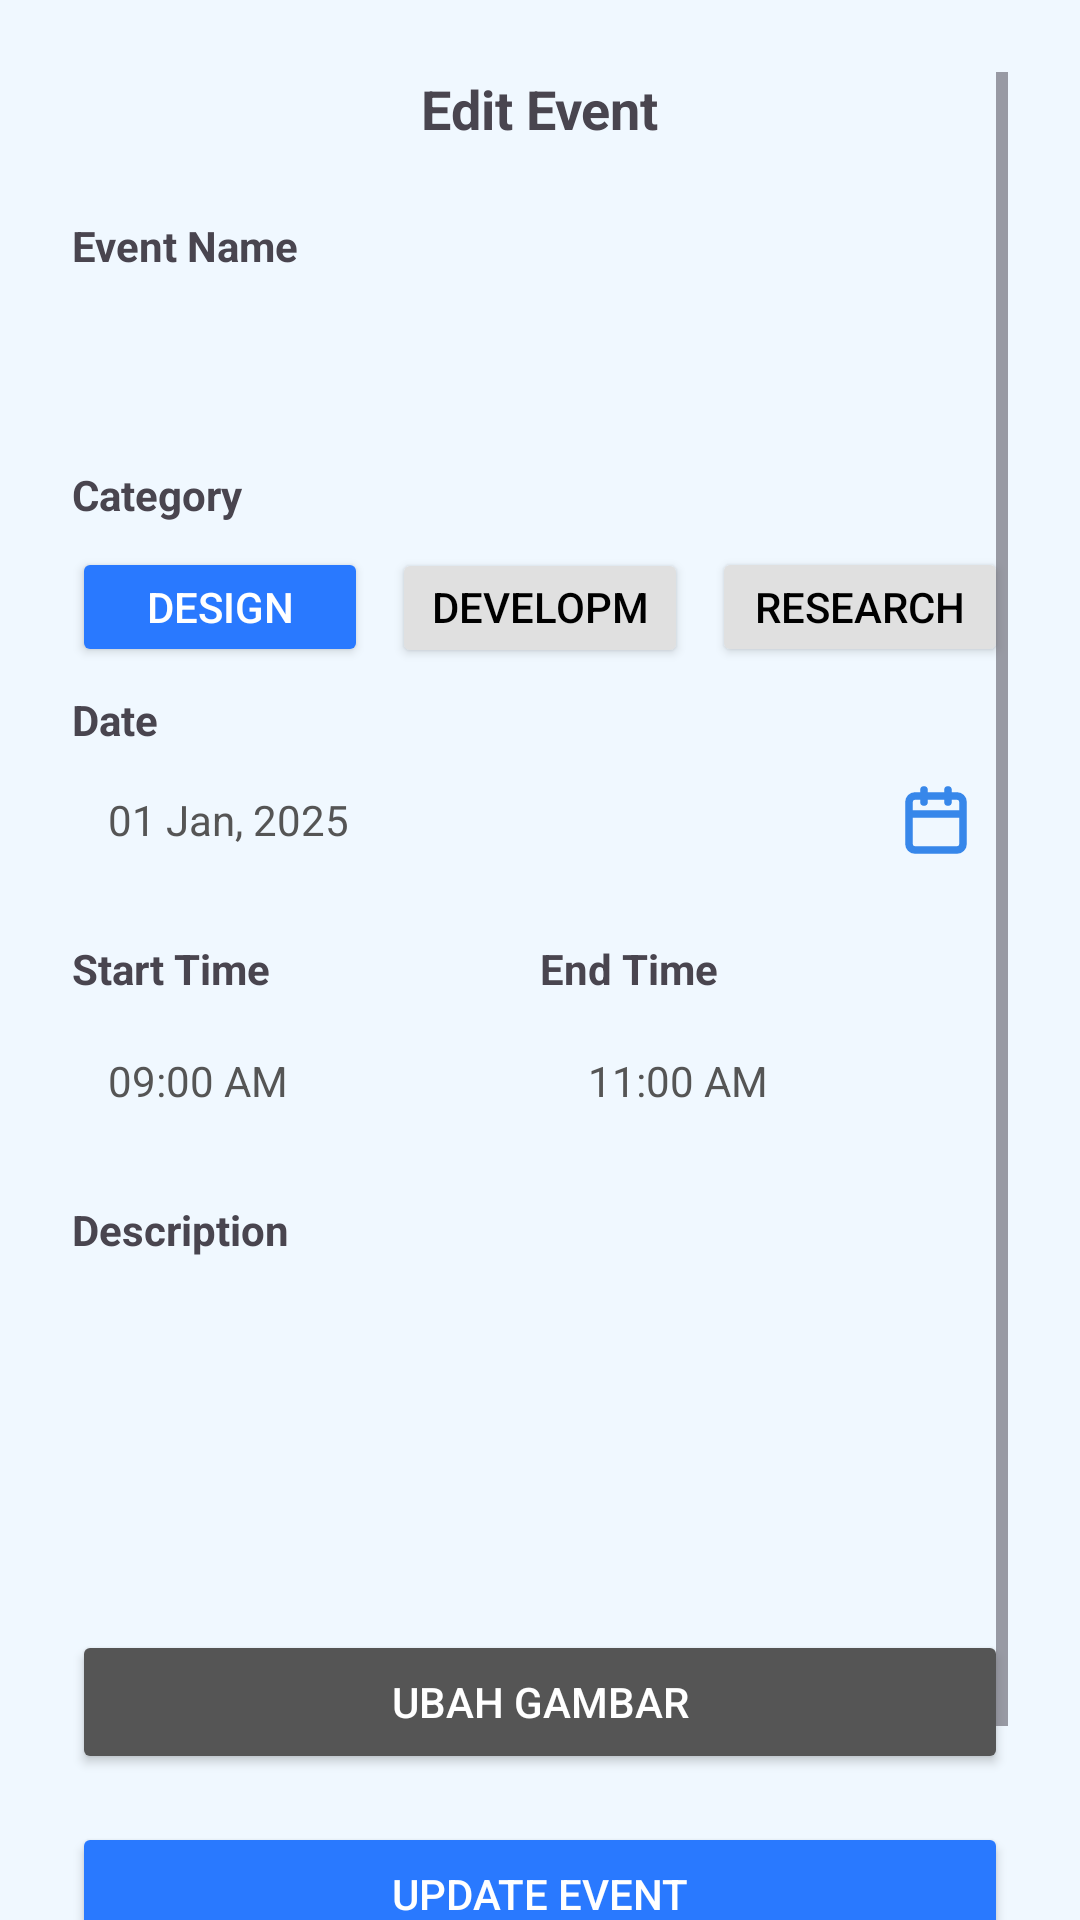

Screen size 1080×1920. Icon name, then its box in pixels as (x1, y1, x2, y2):
calendar: (905, 786, 967, 854)
